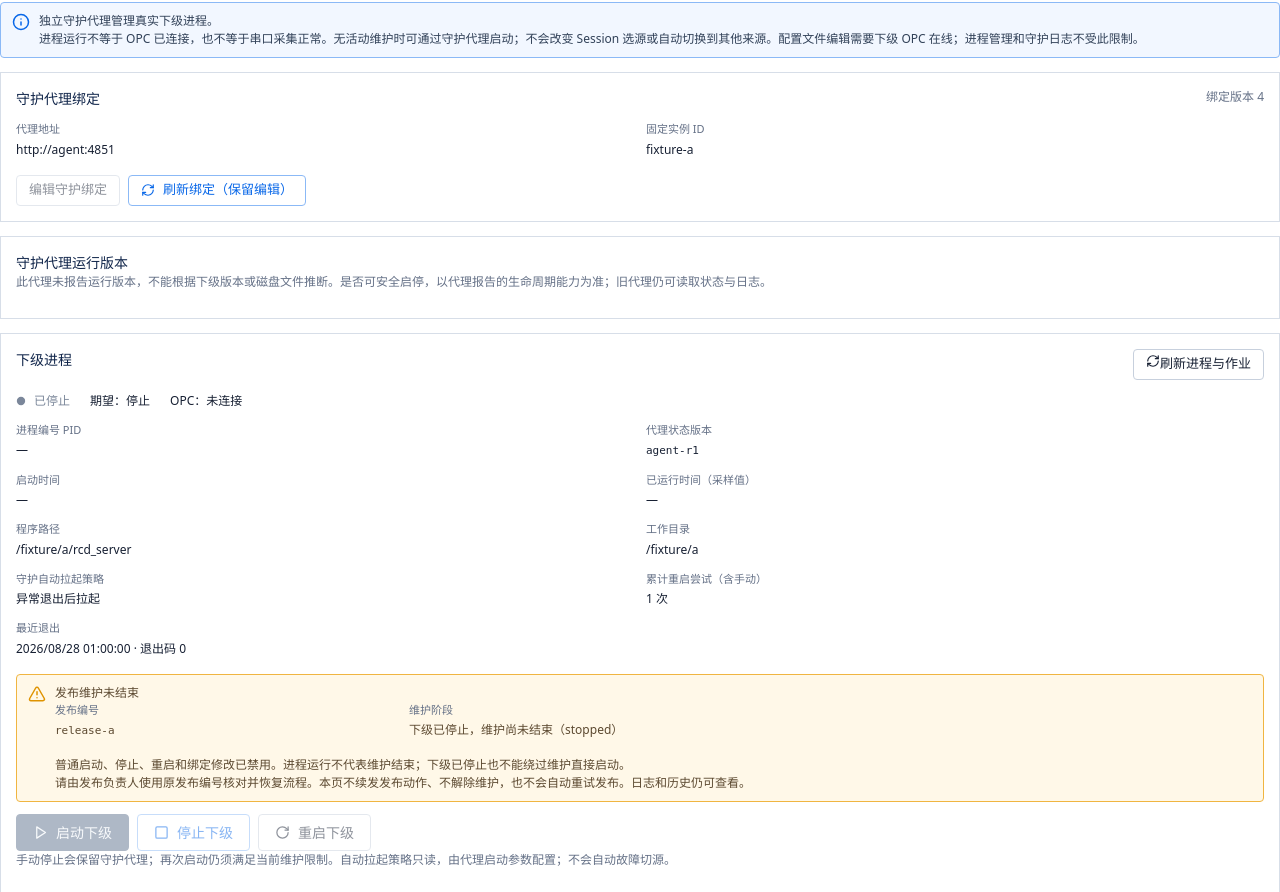
Scenario: physical process management › retains stale maintenance information after refresh failure
Check: the text "发布维护未结束" is shown, box [55, 684, 139, 700]
Click the button "刷新进程与作业". click: (1198, 364)
box: [1133, 348, 1264, 380]
(page scrolled)
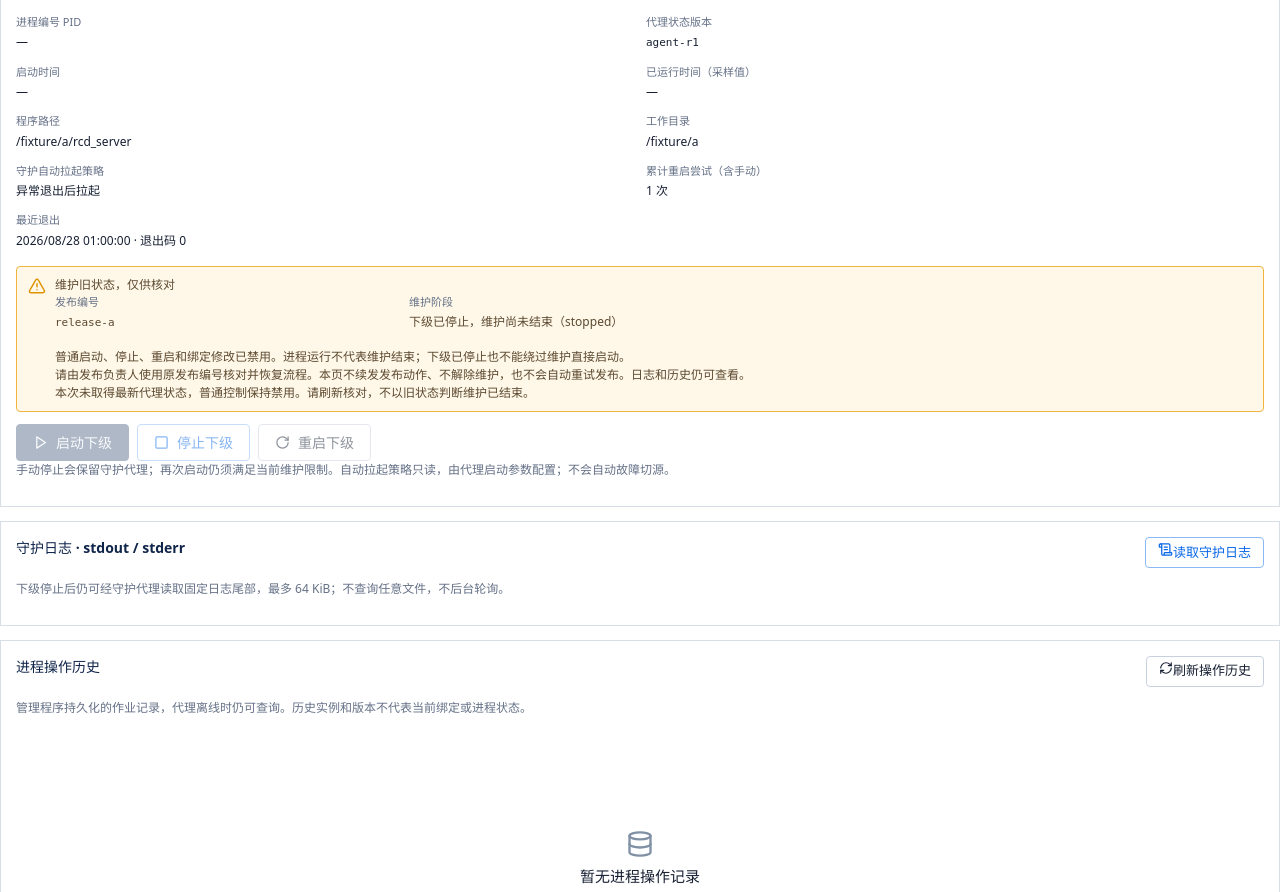
Check: the text "release-a" is shown, box [55, 316, 115, 329]
Check: the text "维护旧状态，仅供核对" is shown, box [55, 276, 175, 292]
